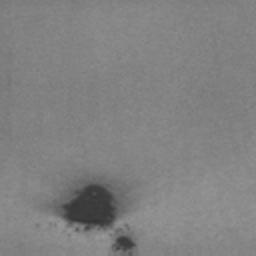Iron sheet ash: (61, 183, 116, 228), (111, 236, 140, 252)
